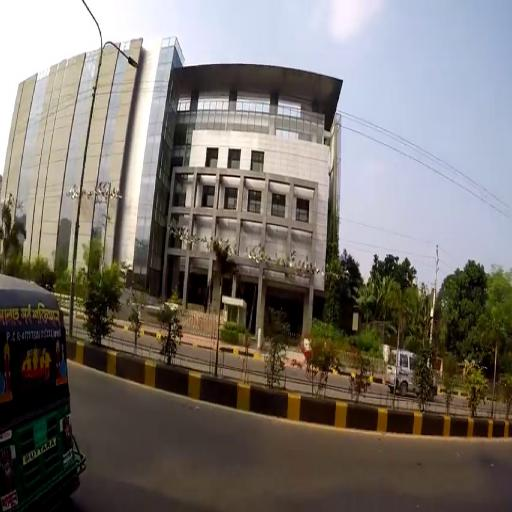minivan: (385, 346, 439, 399)
three wheelers (CNG): (1, 274, 85, 511)
